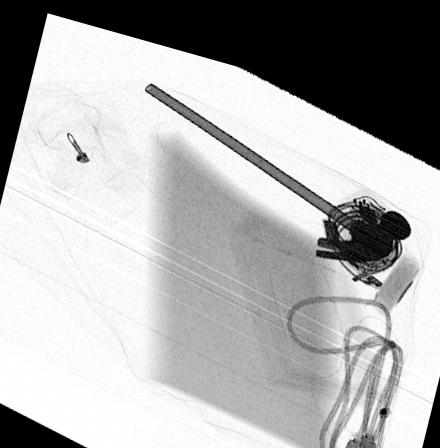Hammer: (142, 71, 411, 242)
